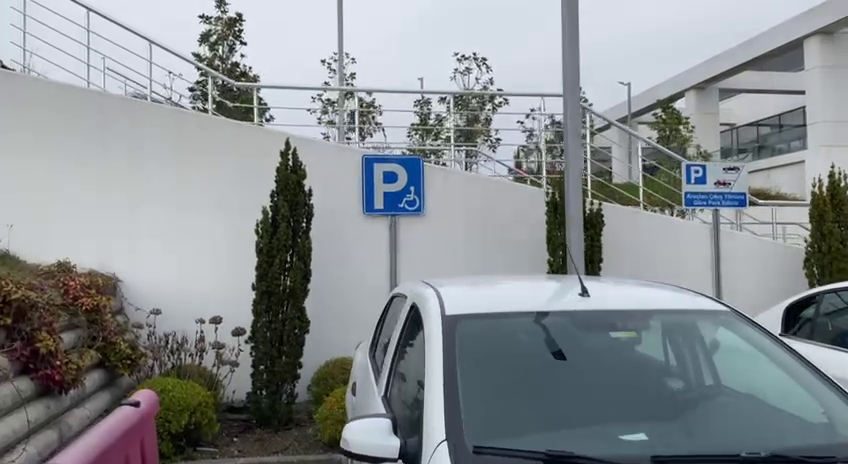parking: (360, 153, 424, 216), (684, 162, 708, 185)
